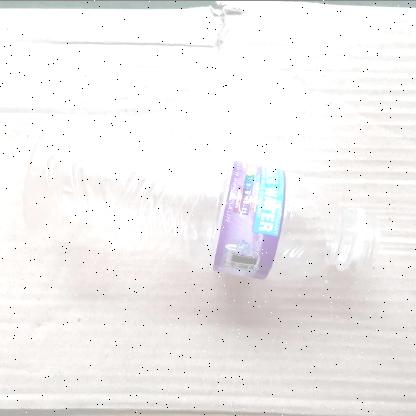Plastic Bottle: (21, 126, 382, 280)
